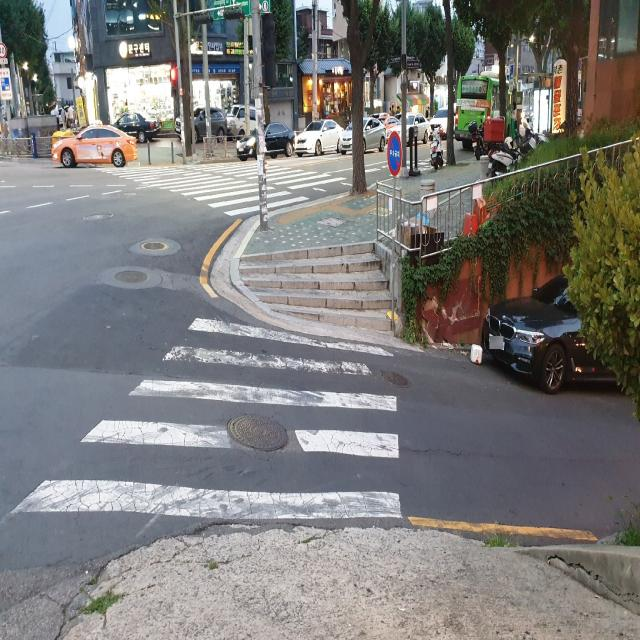빨간불: (105, 165, 348, 212), (170, 68, 178, 97)
횡단보도: (9, 316, 404, 522)
